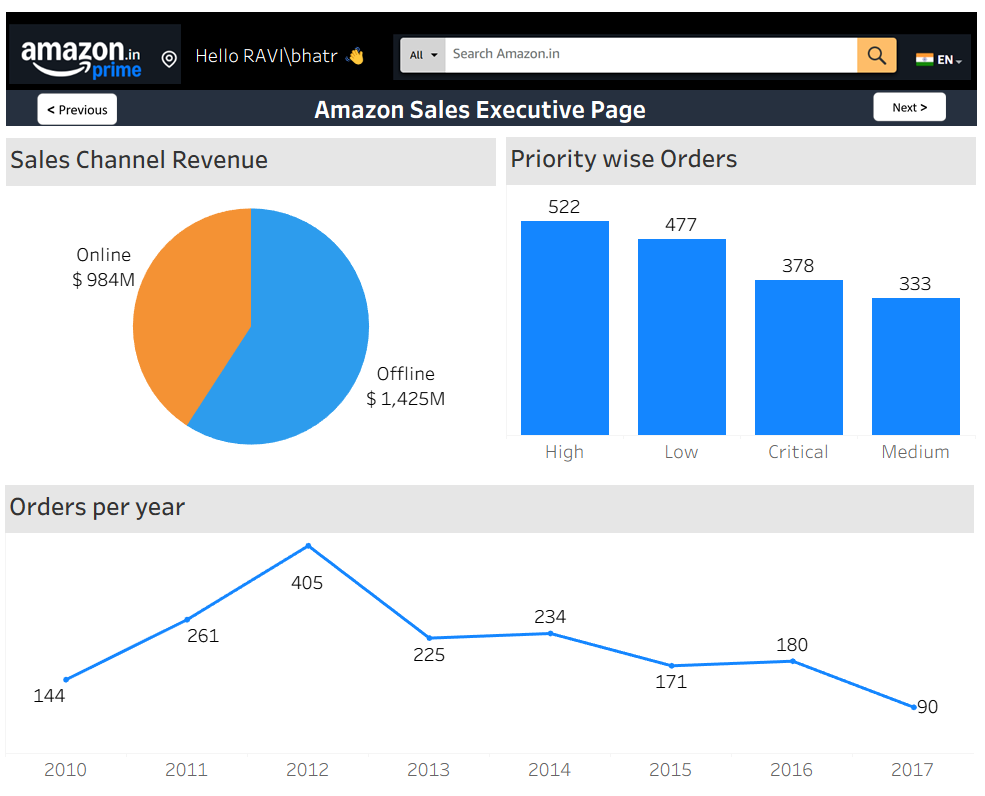

This screenshot's page, from the dashboard's own definition file:
{"tool":"tableau","page":{"name":"Executive Page","canvas":[1000,800],"ordinal":0},"visuals":[{"type":"blank","box":[17,14,971,78]},{"type":"image","param":"C:/Users/bhatr/Documents/IT Rescources/Projects-GitHub/Tableau Dashboards/Amazon","box":[20,26,176,60]},{"type":"image","param":"C:/Users/bhatr/Documents/IT Rescources/Projects-GitHub/Tableau Dashboards/Amazon","box":[404,36,578,55]},{"type":"text","box":[202,40,223,34]},{"type":"blank","box":[17,92,971,36]},{"type":"dashboard-object","box":[871,94,99,32]},{"type":"dashboard-object","box":[25,95,127,35]},{"type":"text","box":[321,95,366,30]},{"type":"worksheet","title":"Priority wise Orders","mark":"Automatic","rows":["Calculation_0890636790030337"],"cols":["Order Priority"],"box":[517,139,470,327]},{"type":"worksheet","title":"Sales Channel Revenue","mark":"Pie","box":[17,140,490,329]},{"type":"worksheet","title":"Orders per year","mark":"Automatic","rows":["Calculation_0890636790030337"],"cols":["Ship Date"],"box":[16,487,969,297]}]}

Visuals, with their boxes on the page's 1000x800 design canvas (x1, y1, x2, y2). These are canvas units, not pixel positions in the 985x796 screenshot, which may show the page scaled, cropped or inside an application window:
blank: [x1=17, y1=14, x2=988, y2=92]
image: [x1=20, y1=26, x2=196, y2=86]
image: [x1=404, y1=36, x2=982, y2=91]
text: [x1=202, y1=40, x2=425, y2=74]
blank: [x1=17, y1=92, x2=988, y2=128]
dashboard-object: [x1=871, y1=94, x2=970, y2=126]
dashboard-object: [x1=25, y1=95, x2=152, y2=130]
text: [x1=321, y1=95, x2=687, y2=125]
"Priority wise Orders" worksheet: [x1=517, y1=139, x2=987, y2=466]
"Sales Channel Revenue" worksheet (Pie marks): [x1=17, y1=140, x2=507, y2=469]
"Orders per year" worksheet: [x1=16, y1=487, x2=985, y2=784]
